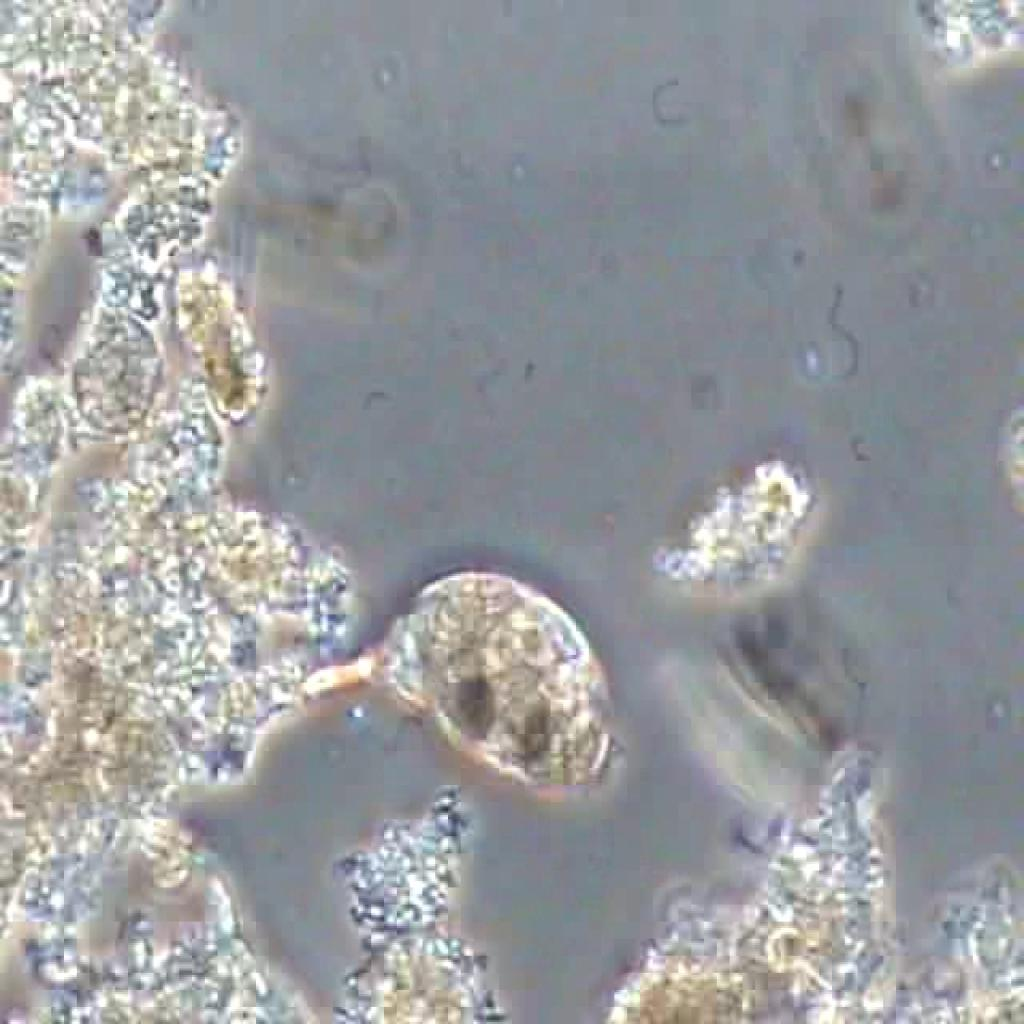Rotatoria: (330, 559, 644, 804)
